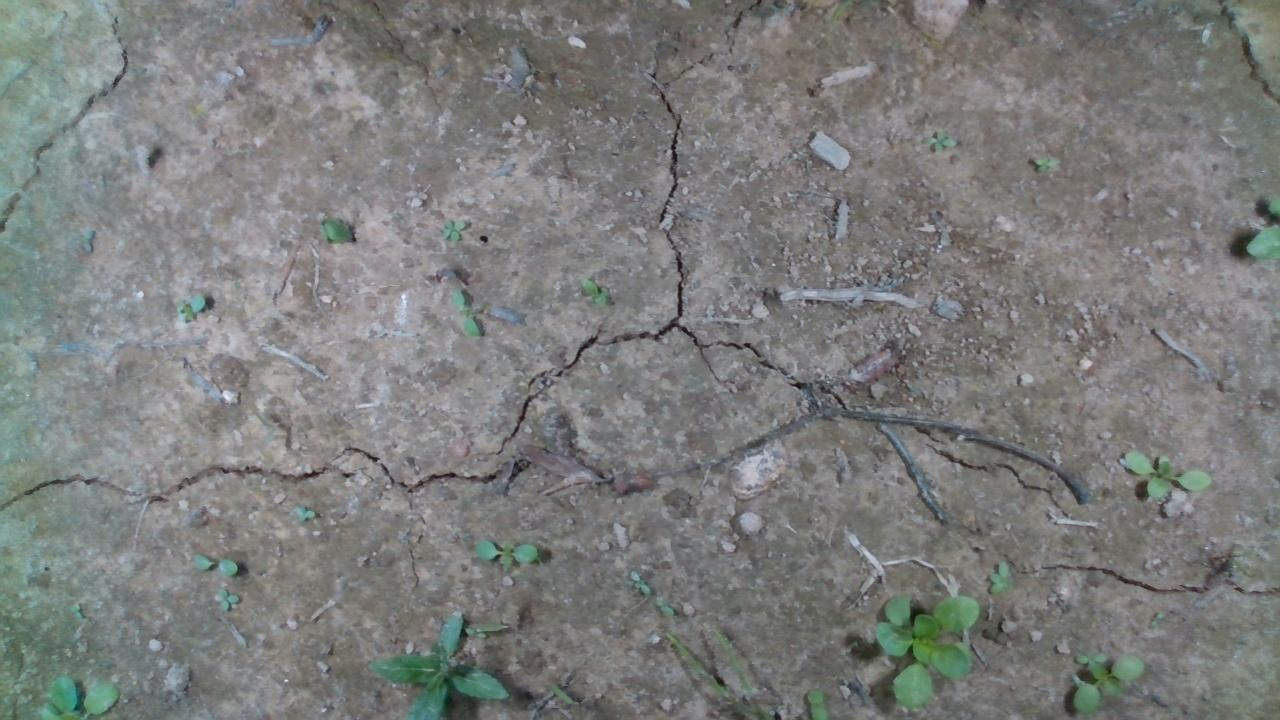weed: (1121, 449, 1212, 498), (444, 289, 498, 338), (465, 533, 551, 563), (165, 294, 229, 328), (572, 276, 625, 310), (983, 557, 1026, 598), (1024, 147, 1092, 169), (434, 217, 477, 245), (918, 131, 973, 152), (188, 553, 240, 575), (211, 589, 240, 610), (289, 505, 317, 521)
